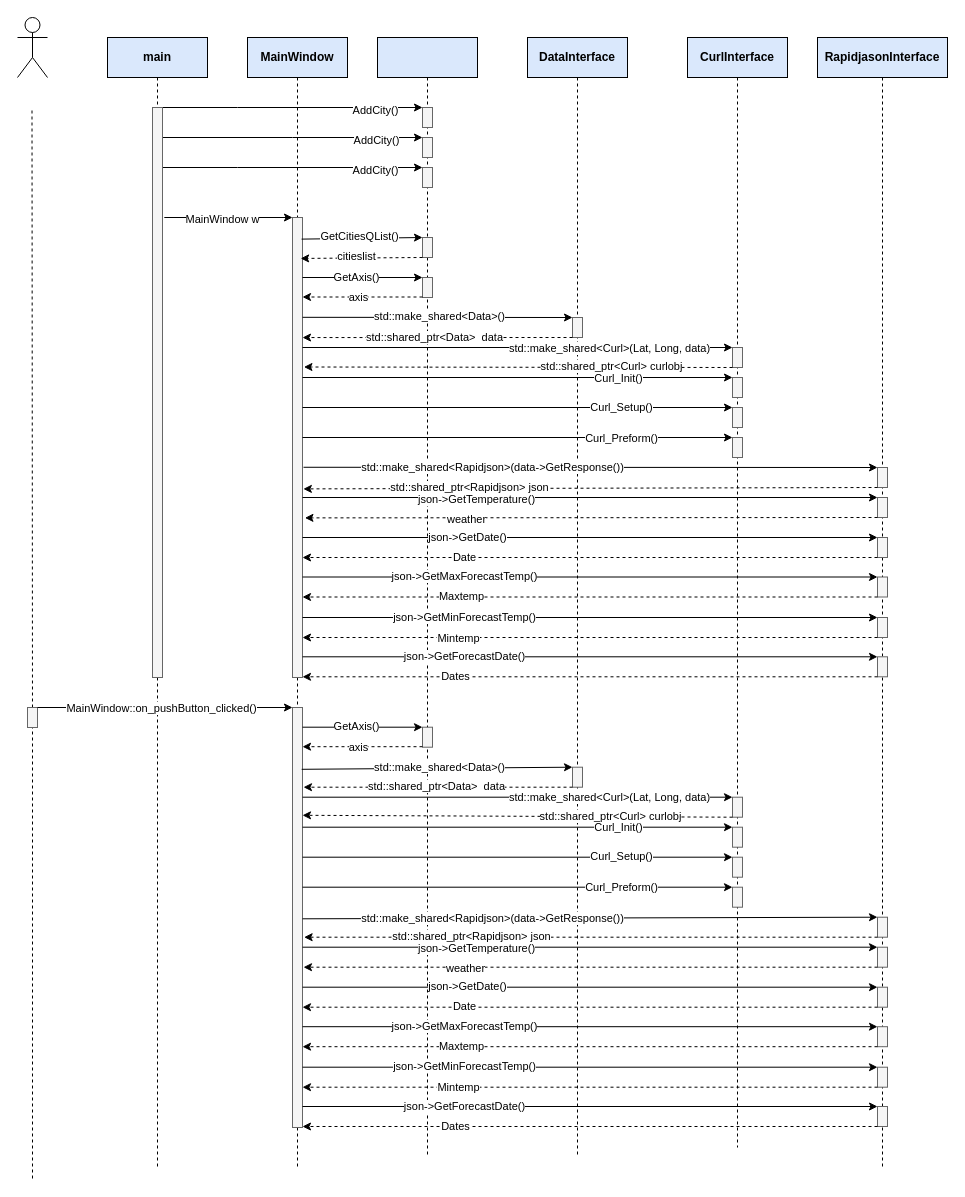
Image size: 965x1197. Some labels were removed from this diagram. Here are the shapes that lost their labels. From the top down, the centre of each, then its label:
the point at 32,47: Actor
the point at 427,597: Cities
